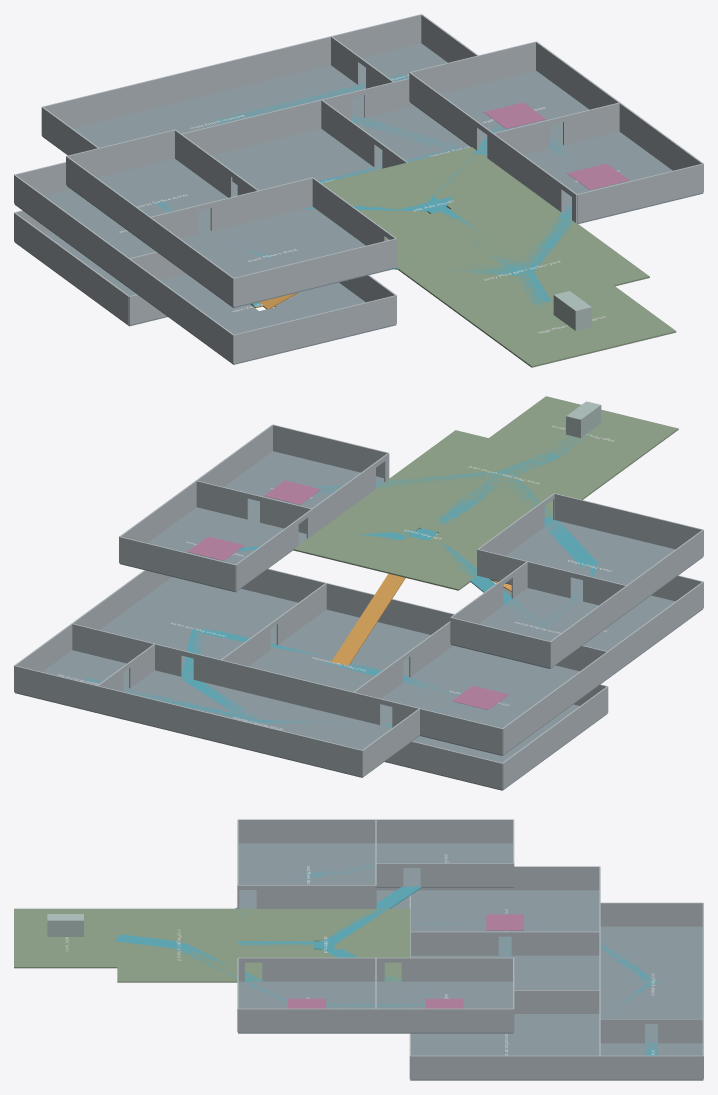
File: rough-shell.glb
3 renders of one model, top to bottom at view 1: azimuth 30°, elevation 25°; view 2: azimuth 150°, elevation 25°; view 3: azimuth 270°, elevation 25°, orthographic. The views are drawn at different scales.
Parts seen in each view (by area): view 1: Floor entry, Floor cross, Floor stage, Wall cross N, Floor shack, Floor haul, Wall vent S, Wall shack S, Floor wash, Floor assay, Floor stores, Wall assay S (+52 smaller); view 2: Floor entry, Floor ore-east, Floor cross, Wall cross N, Floor haul, Floor stage, Floor shack, Floor assay, Floor wash, Floor stores, Wall shack S, Wall haul N (+61 smaller); view 3: Floor cross, Floor entry, Floor ore-east, Floor shack, Floor stage, Wall ore-east E, Floor assay, Floor wash, Wall shack W, Wall assay E, Wall wash E, Wall stores W (+39 smaller).
Boxes of the visible parts, <box> form: Floor entry: <box>396,223,649,321</box>; Floor cross: <box>42,65,364,155</box>; Floor stage: <box>469,285,676,367</box>; Wall cross N: <box>42,36,331,128</box>; Floor shack: <box>150,206,392,307</box>; Floor haul: <box>211,128,377,196</box>; Wall vent S: <box>233,295,396,363</box>; Wall shack S: <box>233,238,396,306</box>; Floor wash: <box>410,70,589,156</box>; Floor assay: <box>524,131,703,223</box>; Floor stores: <box>67,158,227,246</box>; Wall assay S: <box>577,163,703,223</box>; Floor entry: <box>389,430,621,518</box>; Floor ore-east: <box>100,577,297,678</box>; Floor cross: <box>97,670,419,777</box>; Wall cross N: <box>97,685,362,776</box>; Floor haul: <box>249,609,430,691</box>; Floor stage: <box>489,396,678,471</box>; Floor shack: <box>489,520,702,612</box>; Floor assay: <box>224,451,383,522</box>; Floor wash: <box>119,507,306,592</box>; Floor stores: <box>451,588,626,668</box>; Wall shack S: <box>554,493,703,549</box>; Wall haul N: <box>220,660,353,718</box>; Floor cross: <box>600,926,702,1042</box>; Floor entry: <box>117,908,237,982</box>; Floor ore-east: <box>410,1014,599,1080</box>; Floor shack: <box>238,843,375,908</box>; Floor stage: <box>14,908,117,968</box>; Wall ore-east E: <box>410,1055,599,1079</box>; Floor assay: <box>238,981,375,1033</box>; Floor wash: <box>376,981,513,1033</box>; Wall shack W: <box>238,819,375,843</box>; Wall assay E: <box>238,1008,375,1032</box>; Wall wash E: <box>376,1008,513,1032</box>; Wall stores W: <box>376,819,513,843</box>.
Size of the model in its own units: 52.16 by 13.16 by 80.08.
